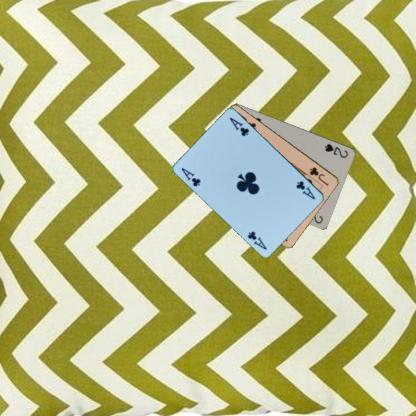2s: (322, 140, 350, 160)
Ac: (179, 165, 202, 188), (294, 178, 316, 200)
Jc: (307, 164, 330, 187)
